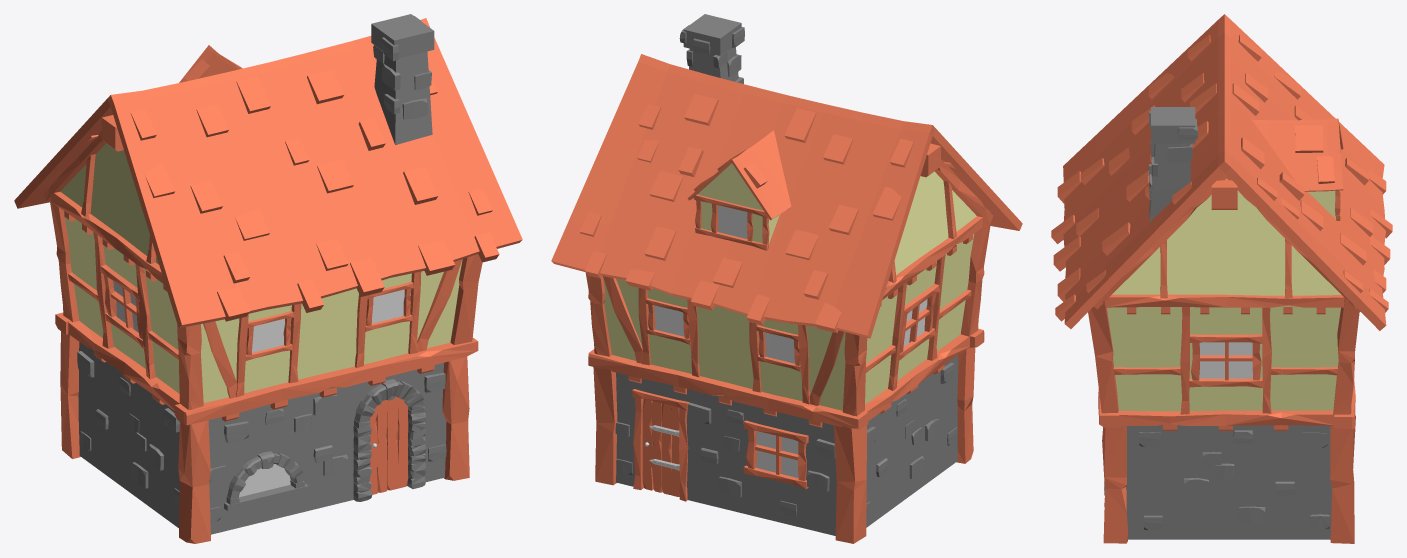
File: House.fbx
3 renders of one model, left to right at view 1: azimuth 30°, elevation 25°; view 2: azimuth 150°, elevation 25°; view 3: azimuth 270°, elevation 25°, orthographic. The views are drawn at different scales.
Visible parts, largest first — view 1: Wood, Stone, Crepis, Unlit; view 2: Wood, Stone, Crepis, Unlit; view 3: Wood, Crepis, Stone, Unlit.
Boxes of the visible parts, left/top/right/bottom form: Wood: left=14, top=18, right=522, bottom=543; Stone: left=77, top=14, right=446, bottom=534; Crepis: left=60, top=143, right=462, bottom=402; Unlit: left=113, top=281, right=404, bottom=497; Wood: left=551, top=54, right=1022, bottom=543; Stone: left=615, top=14, right=958, bottom=535; Crepis: left=603, top=163, right=976, bottom=410; Unlit: left=654, top=205, right=927, bottom=477; Wood: left=1051, top=14, right=1392, bottom=543; Crepis: left=1107, top=190, right=1341, bottom=411; Stone: left=1104, top=107, right=1331, bottom=539; Unlit: left=1199, top=342, right=1252, bottom=378.
Size of the model in its own units: 64.14 by 77.39 by 58.01.
